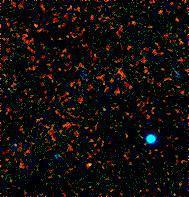star: (73, 148, 103, 178)
